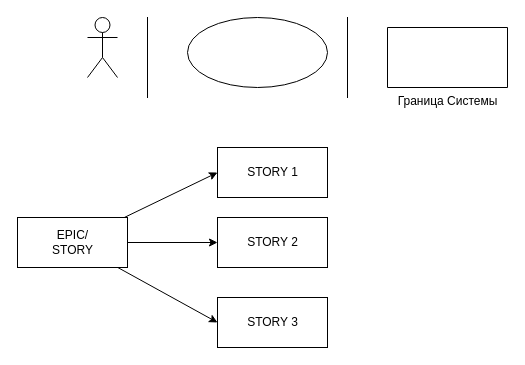
The diagram is 525 pixels wide and 365 high, and some of its shapes have lost their labels. The shapes that lost their labels are listed below. From the top down, each one's box as (x1, y1, x2, y2) in pixels, then its label:
(86, 16, 118, 78): Actor
(186, 16, 328, 88): Use Case
